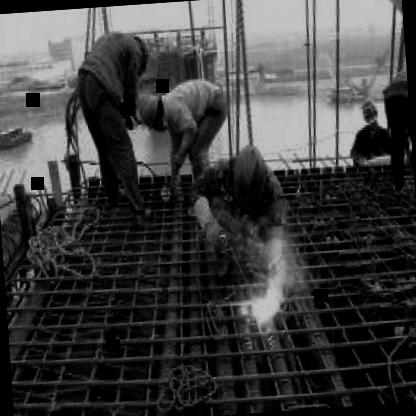helmet: (224, 138, 274, 218), (135, 90, 173, 134), (126, 31, 154, 77), (358, 96, 383, 132)
